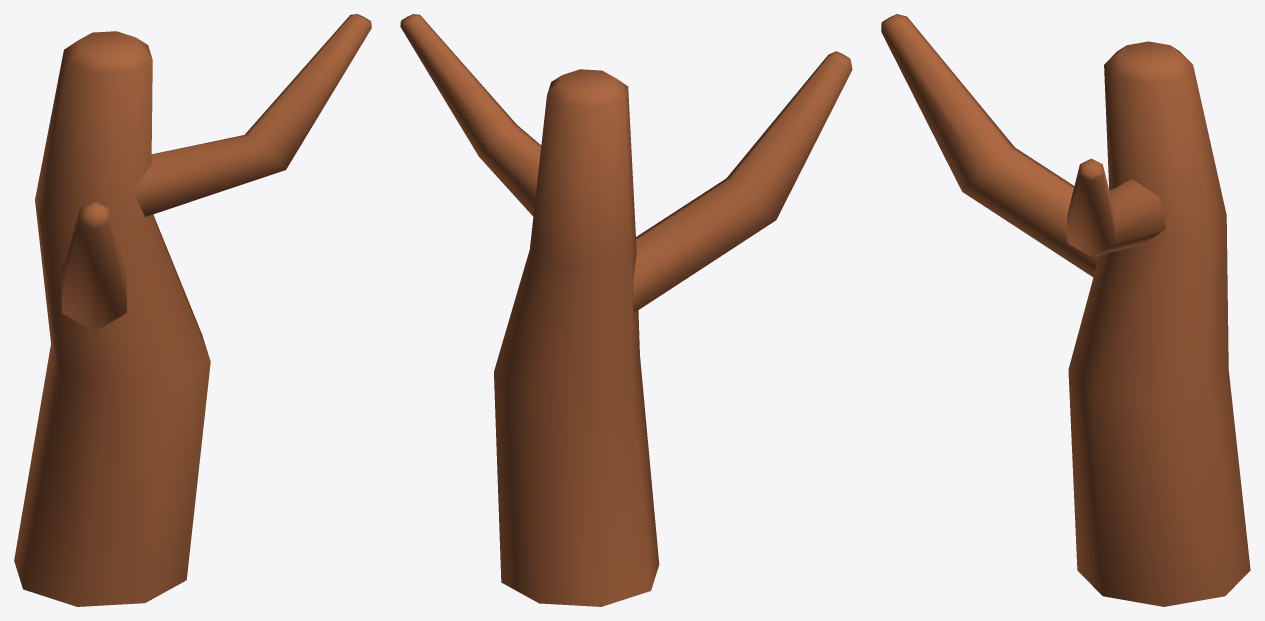
The model's file is Tree_Bark_01.fbx.
The picture shows the model from 3 angles, left to right: view 1: azimuth 30°, elevation 25°; view 2: azimuth 150°, elevation 25°; view 3: azimuth 270°, elevation 25°; orthographic projection. The views are drawn at different scales.
Visible parts, largest first — view 1: Tree_Bark_01; view 2: Tree_Bark_01; view 3: Tree_Bark_01.
Part boxes in pixels (x1,y1,x2,y2): Tree_Bark_01: (14,14,371,606); Tree_Bark_01: (400,14,852,606); Tree_Bark_01: (881,14,1250,606).
Size of the model in its own units: 910 by 1181 by 766.
